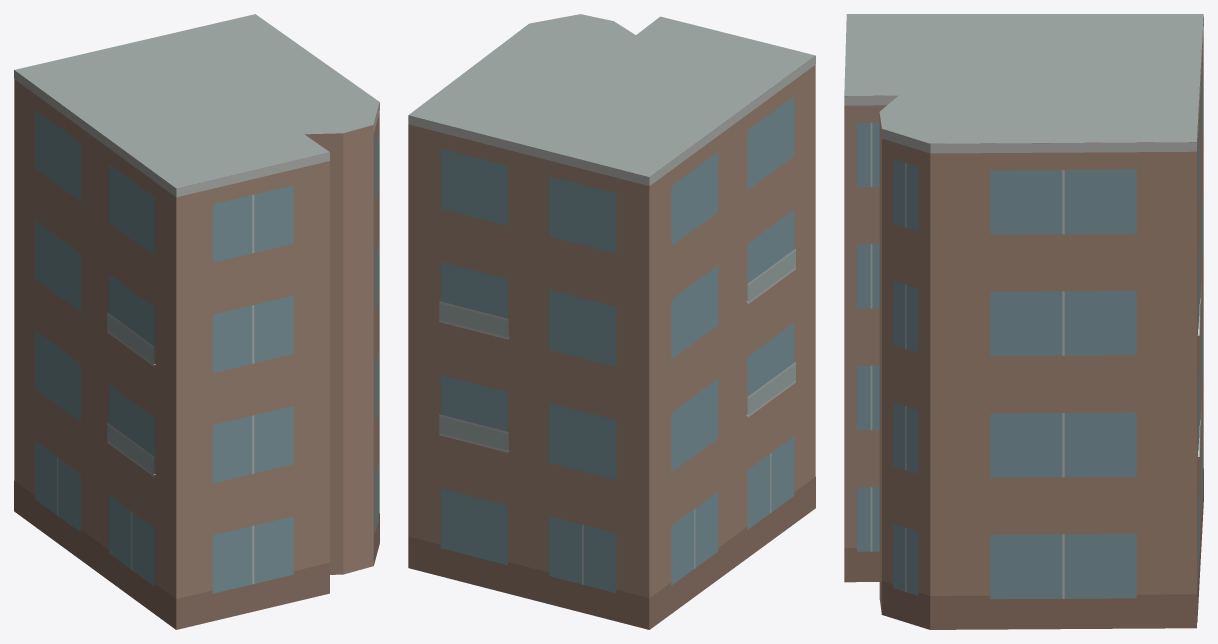
File: survey-upis-32779956.glb
The picture shows the model from 3 angles, left to right: view 1: azimuth 30°, elevation 25°; view 2: azimuth 150°, elevation 25°; view 3: azimuth 270°, elevation 25°; orthographic projection. The views are drawn at different scales.
Visible parts, largest first — view 1: survey-upis-32779956.tmp; view 2: survey-upis-32779956.tmp; view 3: survey-upis-32779956.tmp.
Part boxes in pixels (x1=…): survey-upis-32779956.tmp: x1=14, y1=14, x2=379, y2=629; survey-upis-32779956.tmp: x1=408, y1=14, x2=815, y2=629; survey-upis-32779956.tmp: x1=844, y1=14, x2=1203, y2=629.
Bounding box in the file's own units: 7.03 × 12.2 × 8.19.
